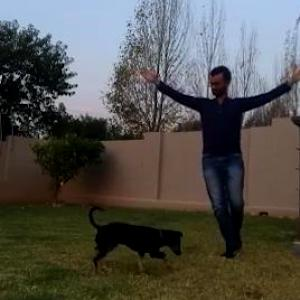takeoff: (143, 67, 299, 258)
